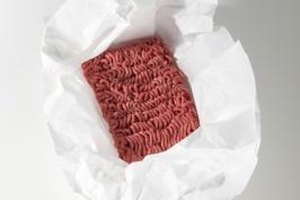ground_beef: (84, 38, 200, 163)
